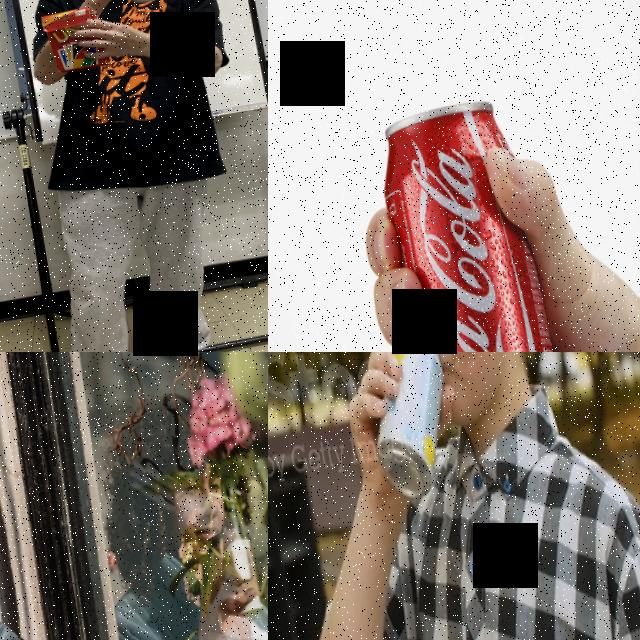can: (369, 88, 589, 352), (362, 352, 462, 501)
